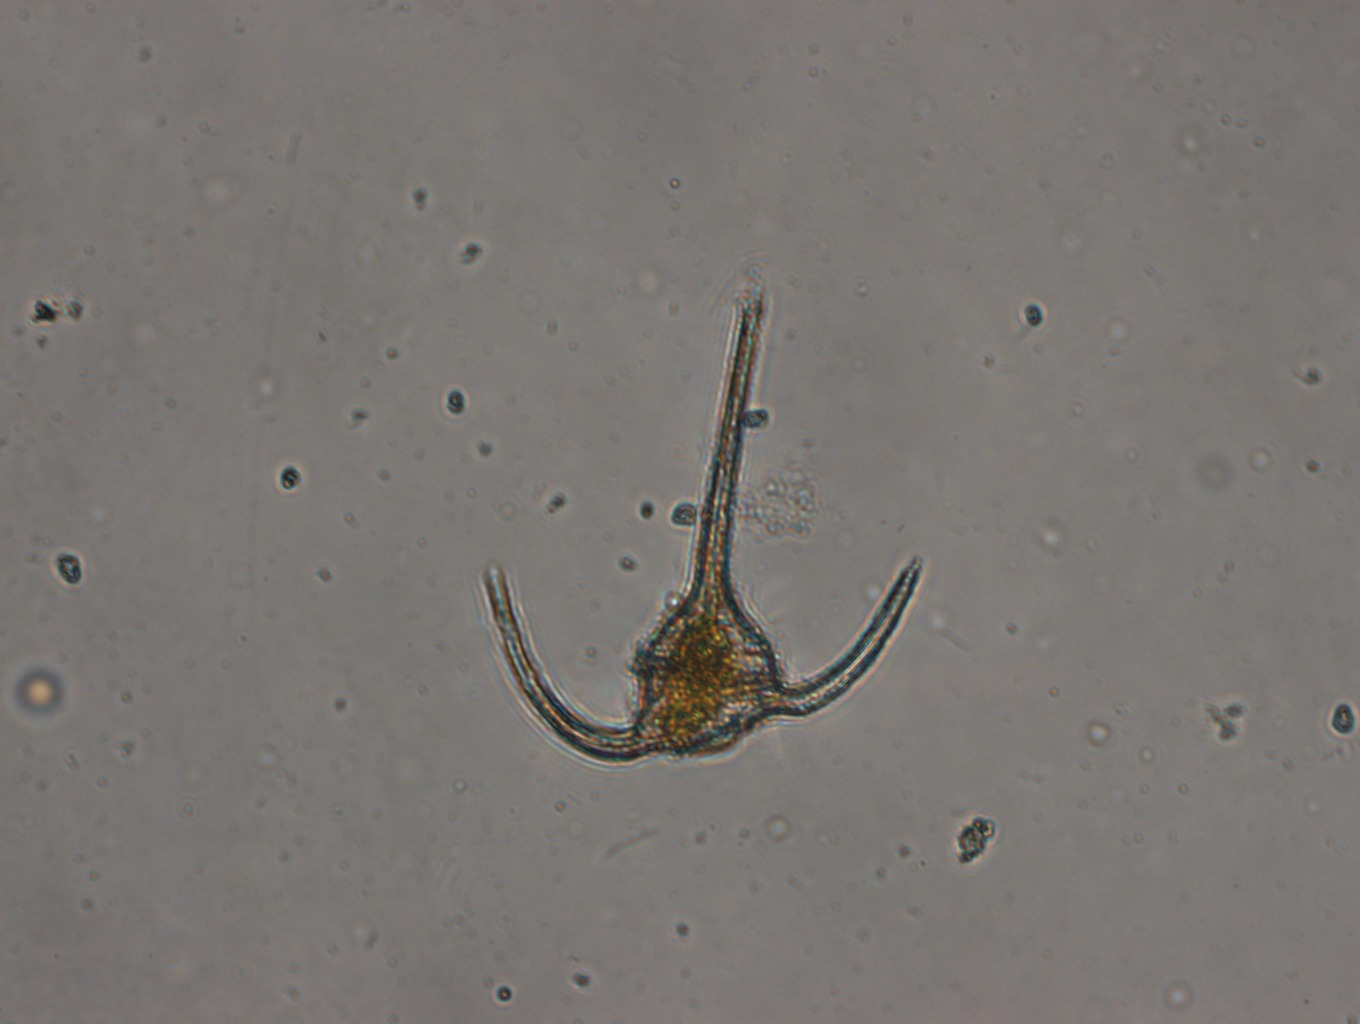ceratium trichoceros: (470, 273, 931, 780)
